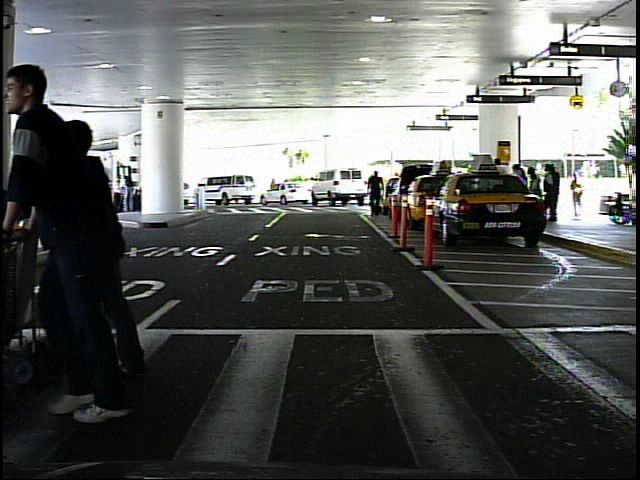person: (14, 51, 139, 430), (365, 168, 388, 219), (571, 172, 590, 218), (108, 175, 126, 213)
